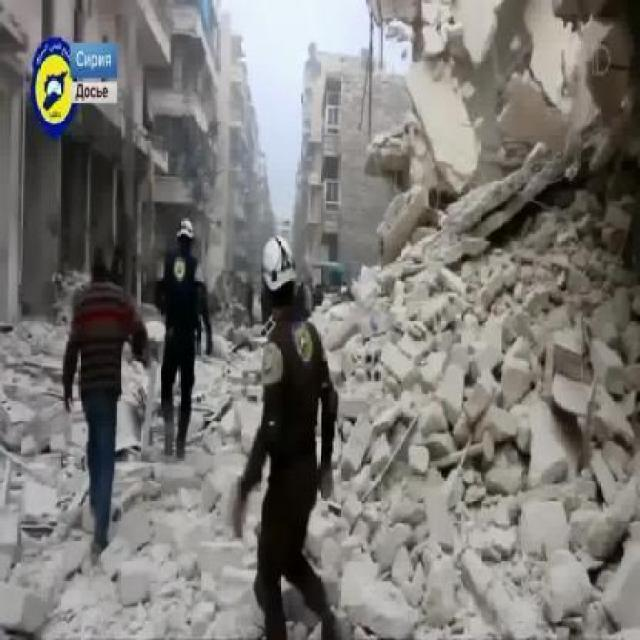Helmet: (261, 235, 299, 293), (176, 217, 195, 241)
